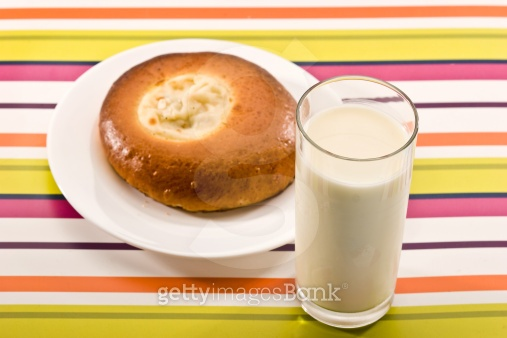glass of milk: (291, 75, 421, 332)
slice of bread: (98, 48, 300, 218)
